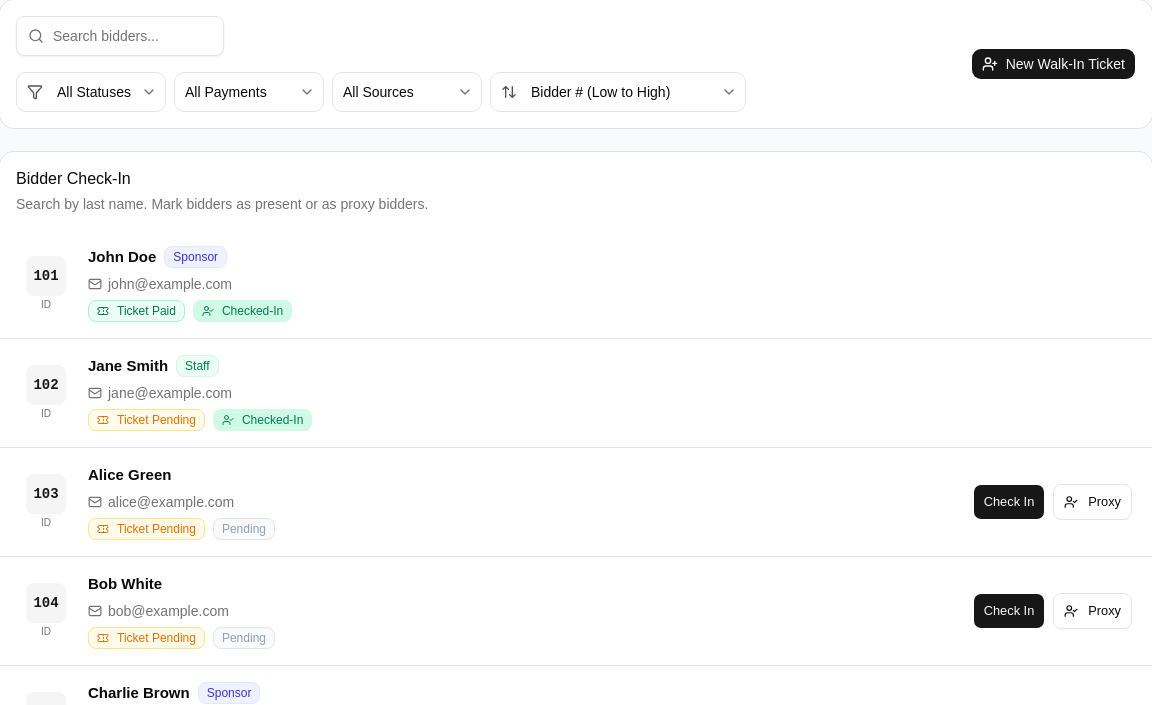
Bidders - Sort and Filter › Check-in status filter — not checked in: Assert only non-checked-in bidders are visible
This screenshot has width=1152, height=705.
Click the dropdown named "Filter by check-in status" at (91, 92), box [16,72,166,112]
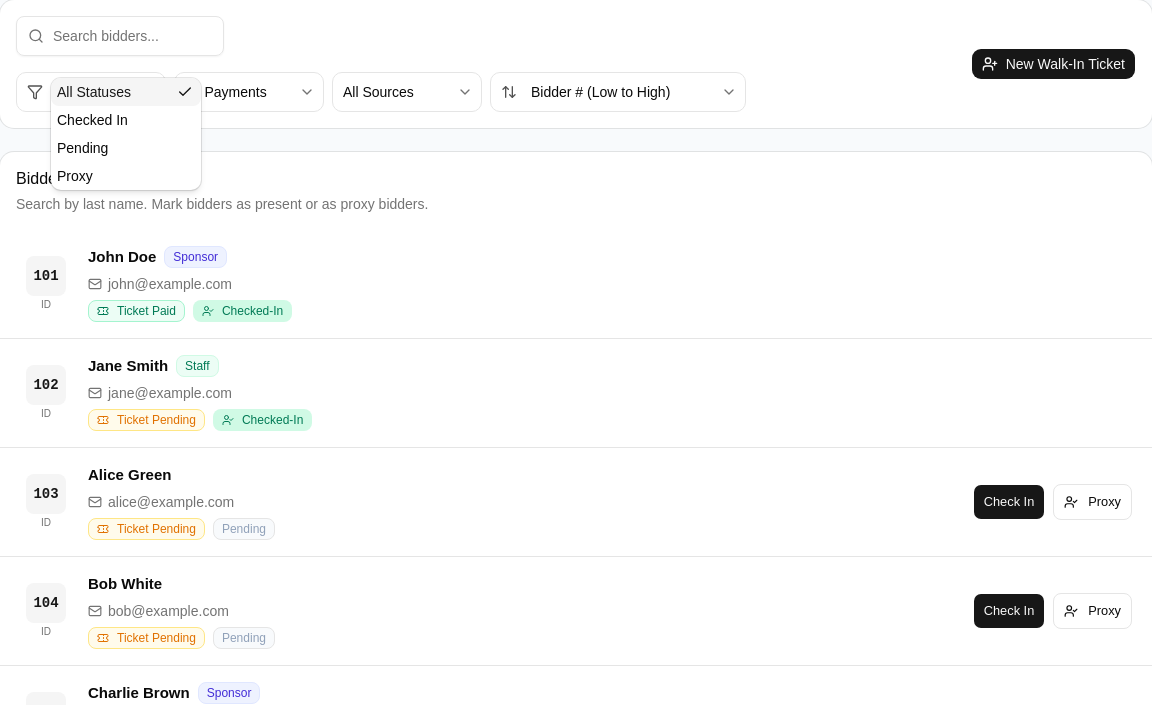
Click the option "Pending" at (83, 148), box [57,140,108,156]
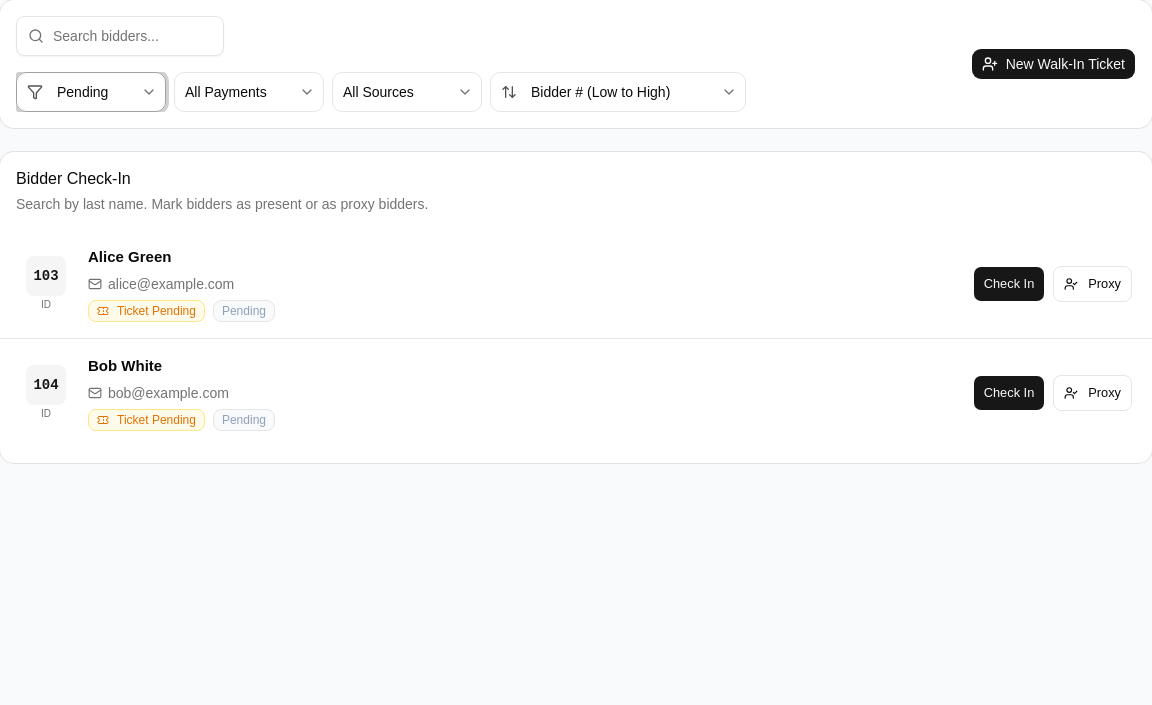
Expected: the text "John Doe" is gone
Expected: the text "Jane Smith" is gone
Expected: the text "Charlie Brown" is gone
